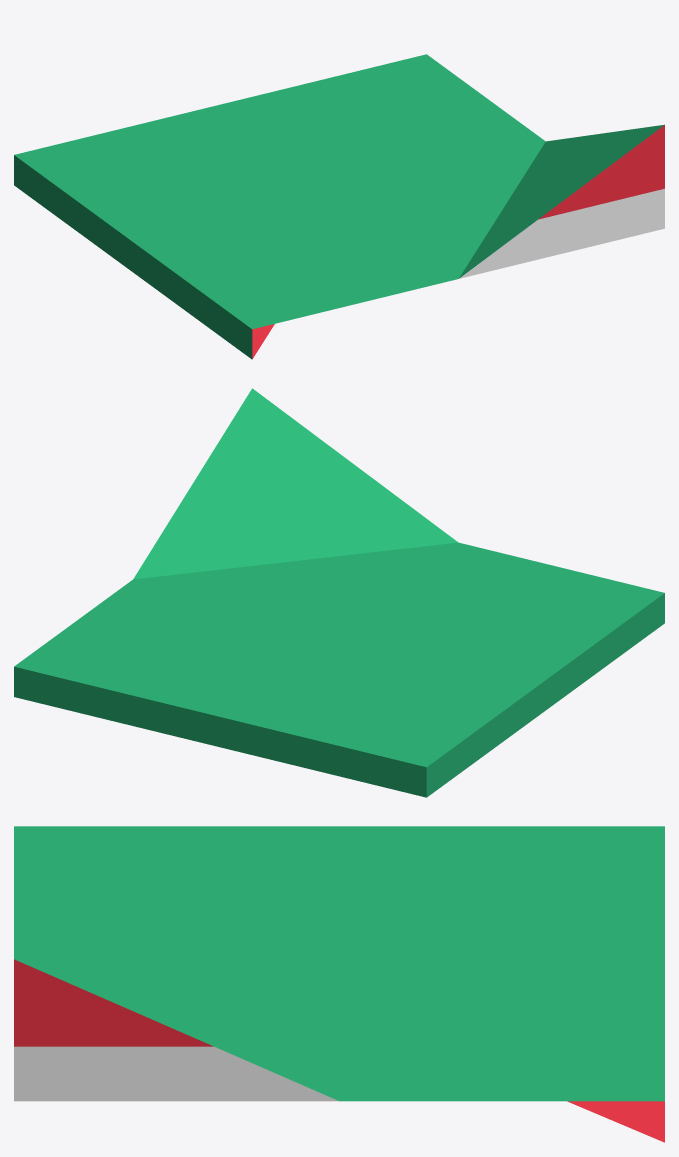
The model's file is HillCorner (Grass).fbx.
3 views of the same model, one above another, from view 1: azimuth 30°, elevation 25°; view 2: azimuth 150°, elevation 25°; view 3: azimuth 270°, elevation 25° (orthographic). The views are drawn at different scales.
Parts seen in each view (by area): view 1: hillCorner001; view 2: hillCorner001; view 3: hillCorner001.
Part boxes in pixels (bbox=[...]): hillCorner001: bbox=[14, 54, 664, 359]; hillCorner001: bbox=[14, 388, 664, 797]; hillCorner001: bbox=[14, 826, 664, 1142].
Bounding box in the file's own units: 35.43 × 11.02 × 35.43.
